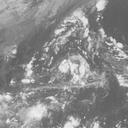cyclone: (41, 38, 101, 97)
